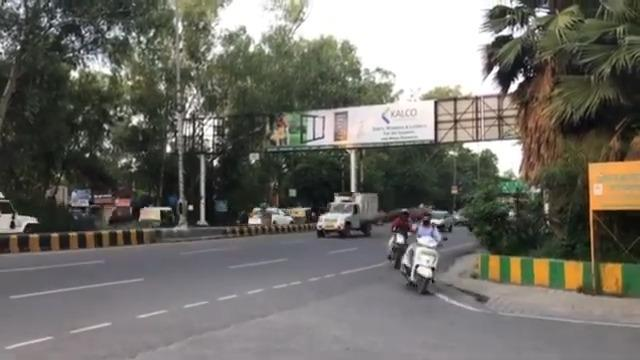Auto: (137, 206, 174, 227)
Bike: (399, 216, 447, 294), (386, 208, 411, 269)
Truck: (315, 190, 380, 237), (0, 190, 39, 235)
